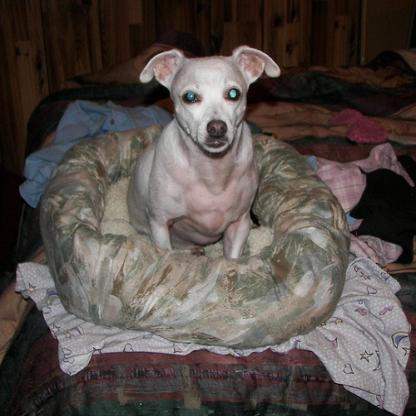dog: (127, 45, 280, 258)
